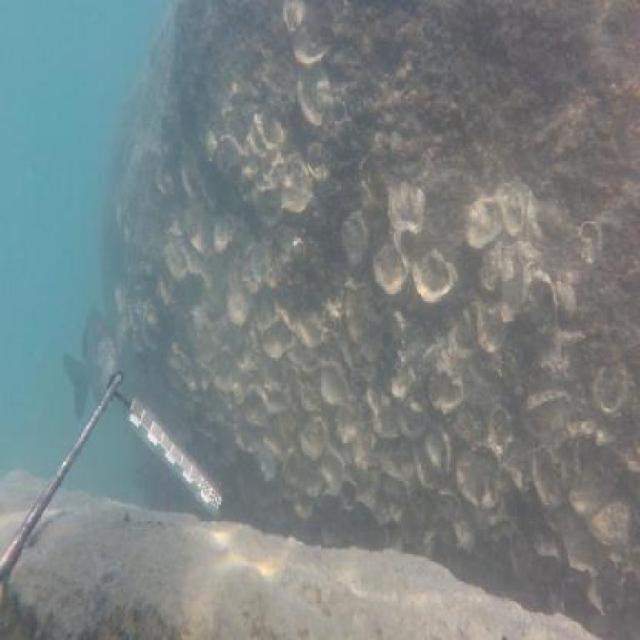acanthopagrus_palmaris: (61, 303, 117, 419)
